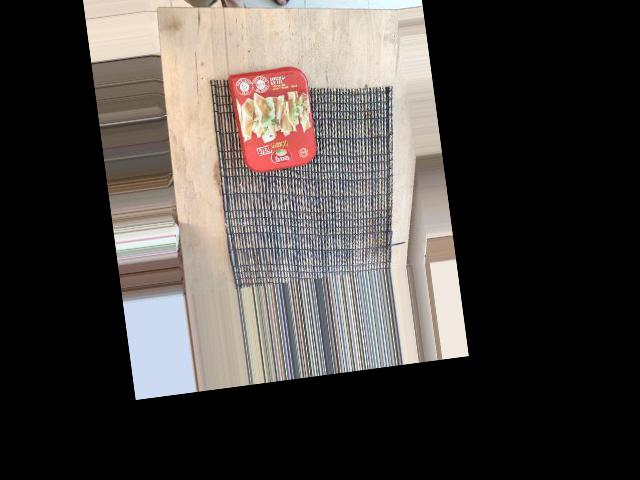cheese: (256, 92, 395, 197)
